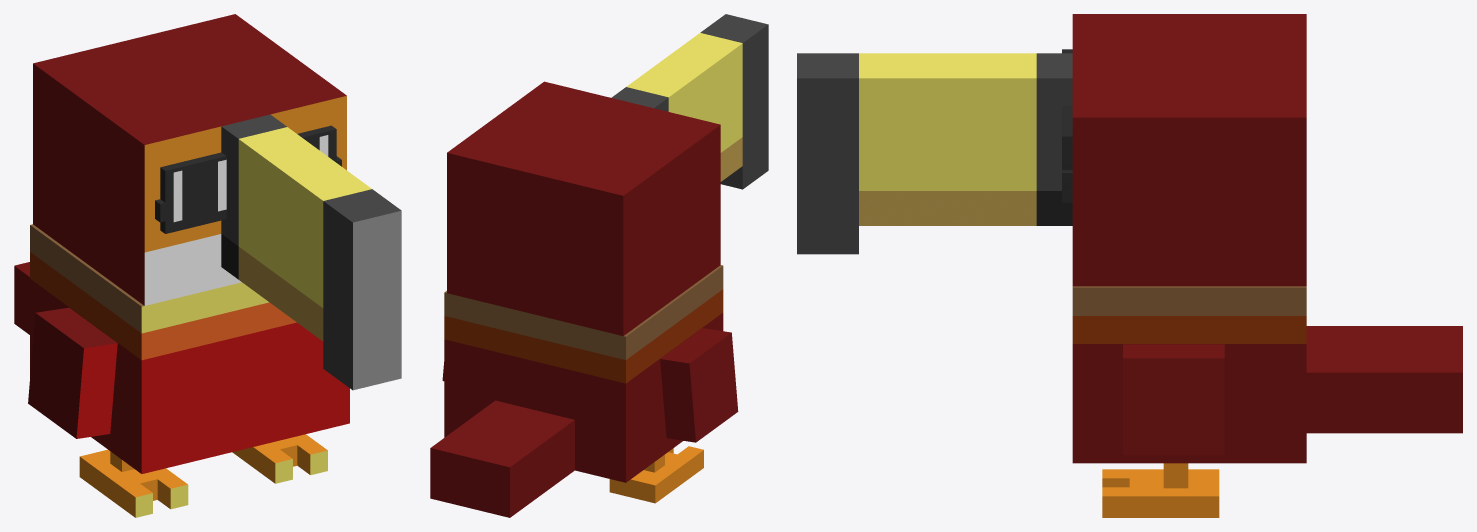
The picture shows the model from 3 angles, left to right: view 1: azimuth 30°, elevation 25°; view 2: azimuth 150°, elevation 25°; view 3: azimuth 270°, elevation 25°; orthographic projection. The views are drawn at different scales.
Parts seen in each view (by area): view 1: Ch_20_Head, Ch_20, Ch_20_Wing_L, Ch_20_Leg_L, Ch_20_Eye_01, Ch_20_Leg_R, Ch_20_Eye_03_L, Ch_20_Eye_03_R; view 2: Ch_20_Head, Ch_20, Ch_20_Wing_L, Ch_20_Leg_L; view 3: Ch_20_Head, Ch_20, Ch_20_Wing_R, Ch_20_Leg_R, Ch_20_Eye_03_R.
Boxes of the visible parts, bbox=[...] form: Ch_20_Head: bbox=[33, 14, 401, 390]; Ch_20: bbox=[14, 224, 349, 473]; Ch_20_Wing_L: bbox=[28, 307, 117, 438]; Ch_20_Leg_L: bbox=[79, 449, 188, 517]; Ch_20_Eye_01: bbox=[173, 135, 328, 222]; Ch_20_Leg_R: bbox=[232, 434, 327, 483]; Ch_20_Eye_03_L: bbox=[160, 152, 226, 233]; Ch_20_Eye_03_R: bbox=[297, 125, 336, 161]; Ch_20_Head: bbox=[447, 14, 768, 335]; Ch_20: bbox=[430, 265, 723, 517]; Ch_20_Wing_L: bbox=[660, 328, 738, 442]; Ch_20_Leg_L: bbox=[609, 446, 703, 503]; Ch_20_Head: bbox=[797, 14, 1306, 286]; Ch_20: bbox=[1072, 286, 1462, 463]; Ch_20_Wing_R: bbox=[1123, 344, 1224, 455]; Ch_20_Leg_R: bbox=[1102, 463, 1219, 517]; Ch_20_Eye_03_R: bbox=[1062, 105, 1072, 202].
Bounding box in the file's own units: 7.91 × 10 × 14.97.
